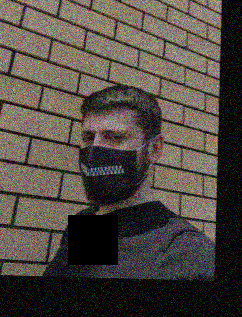with_mask: (77, 120, 139, 205)
